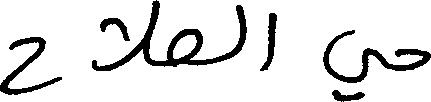X: (93, 0, 158, 75), (324, 25, 378, 101), (0, 32, 59, 99), (167, 24, 200, 71), (397, 44, 430, 75), (262, 8, 276, 75), (236, 0, 244, 59)
